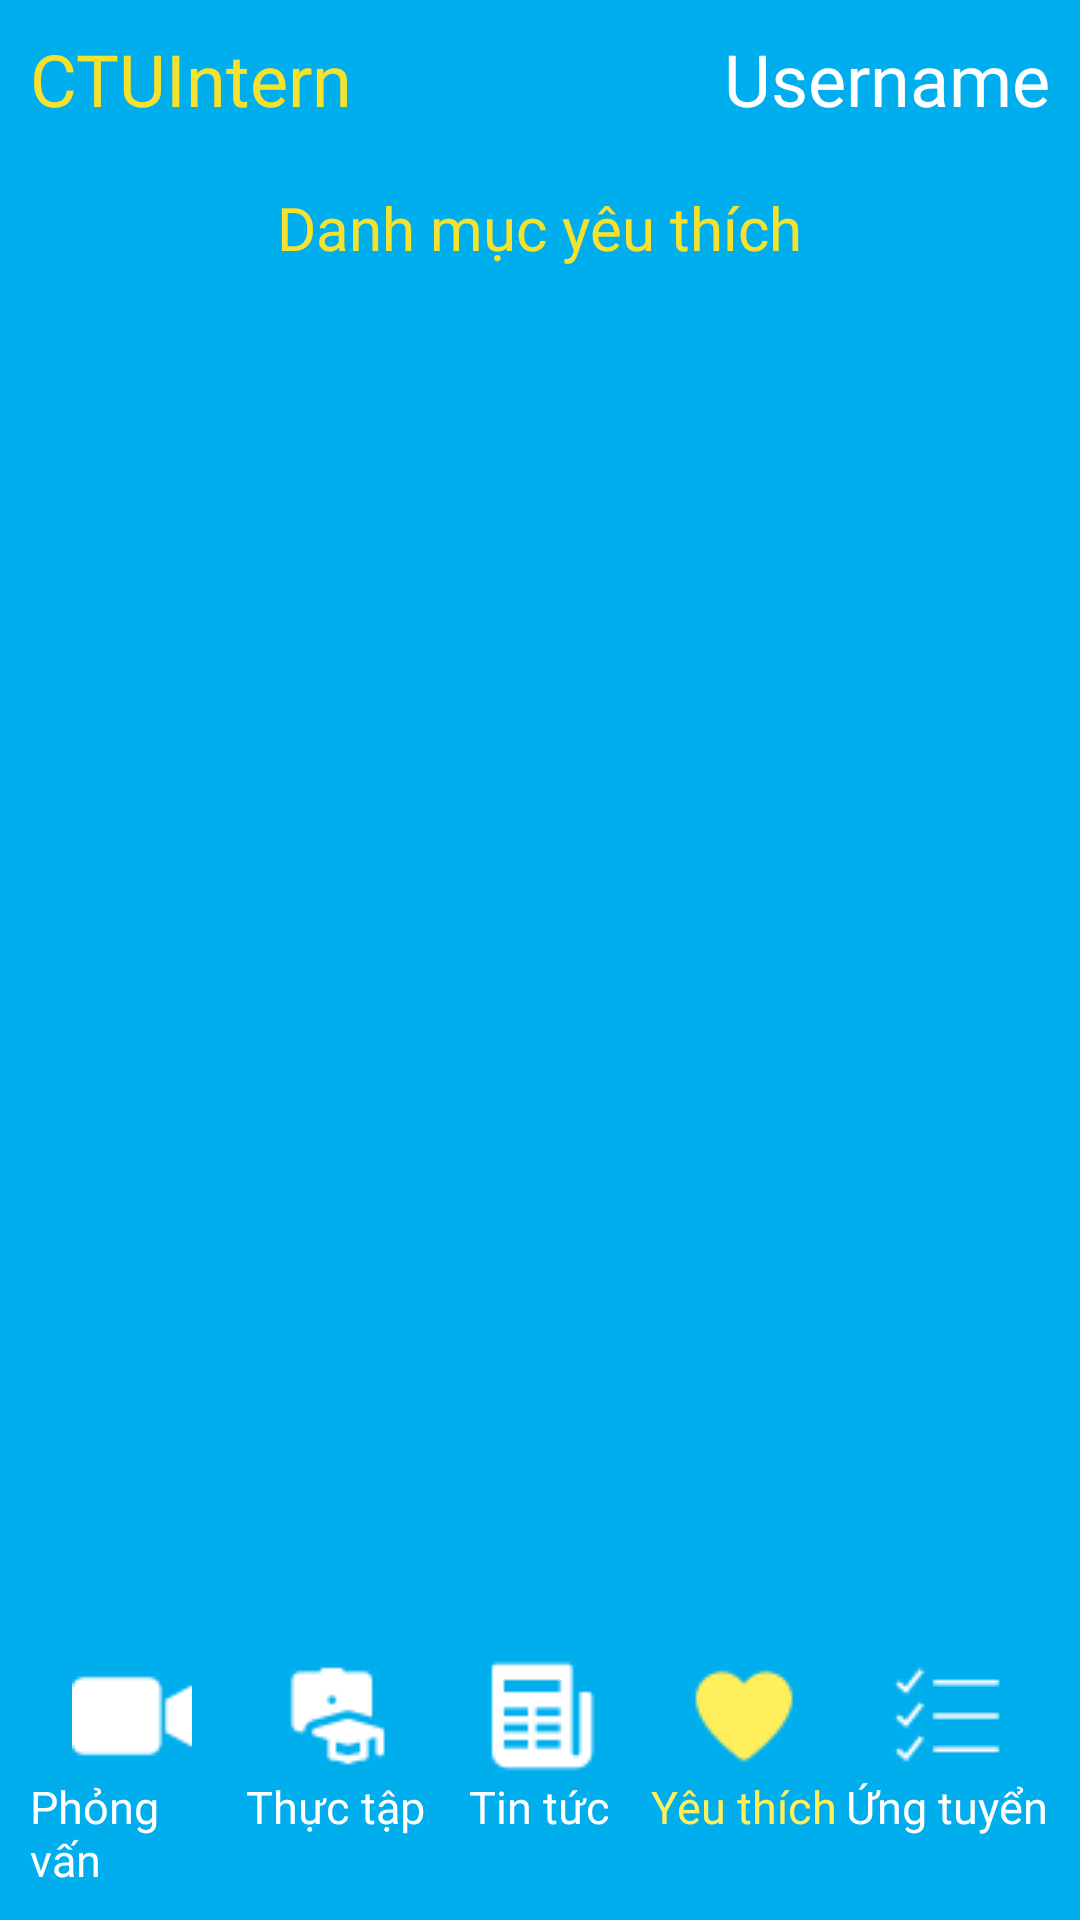

Locate icon controls on the screen. Image size 1080w x 1920h, boxes as (x1, y1, x2, y2).
heart: (695, 1670, 793, 1762)
video: (72, 1676, 192, 1756)
